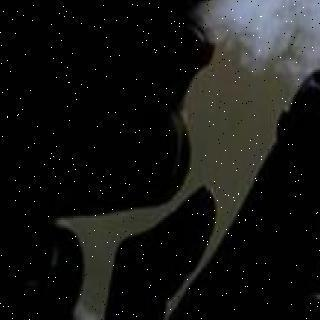smoke: (243, 0, 320, 143)
